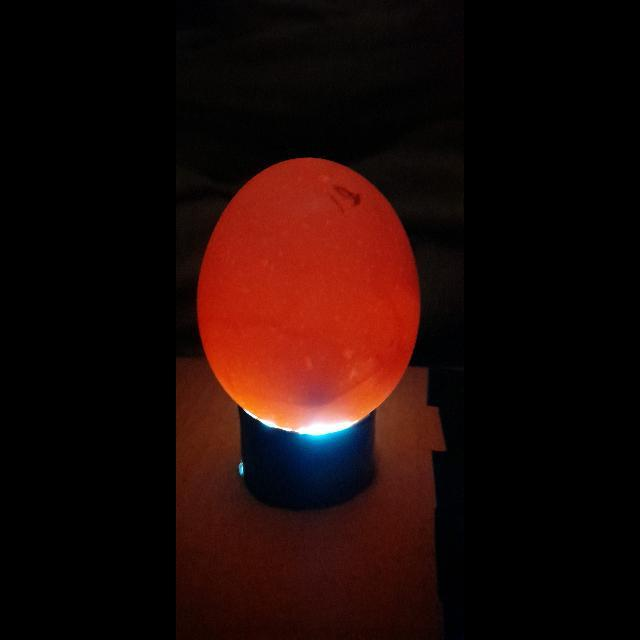Fertile: (191, 150, 427, 430)
